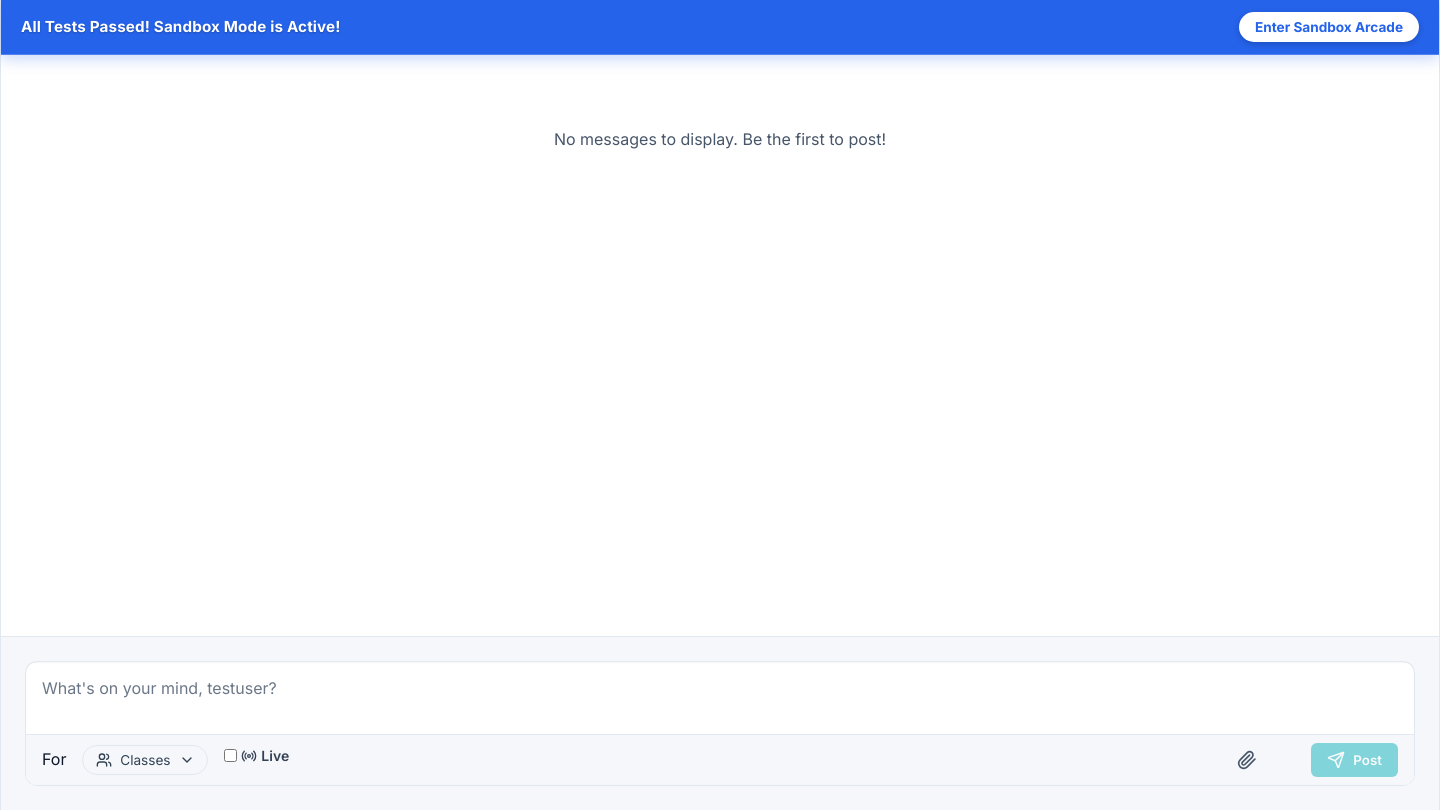
Scenario: Chat Component › opens SandboxArcadeModal when Enter Sandbox Arcade is clicked
Click the button "Enter Sandbox Arcade".
click(1329, 27)  # box [1239,12,1419,42]
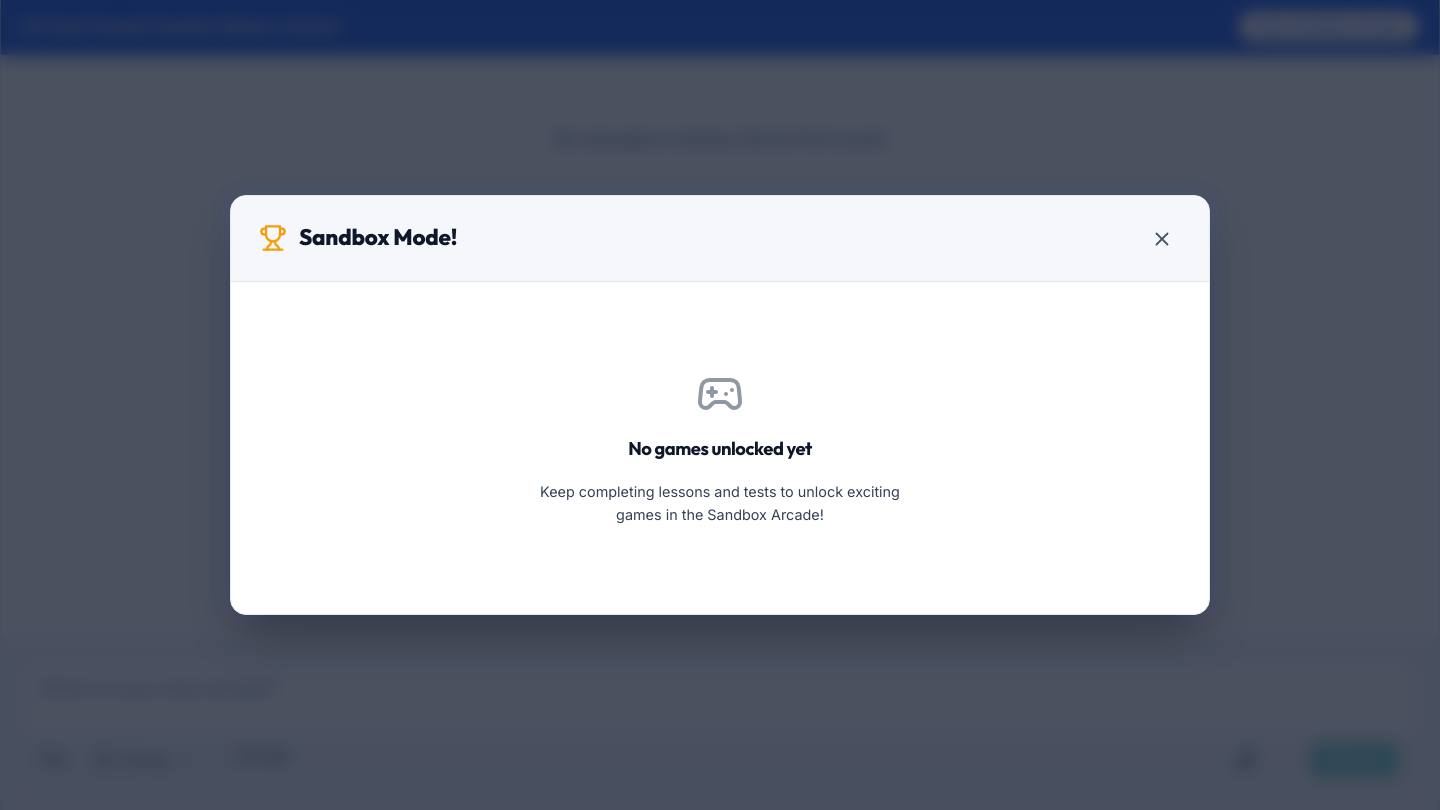
Now the heading "Sandbox Mode!" is shown, box [299,220,457,256]
